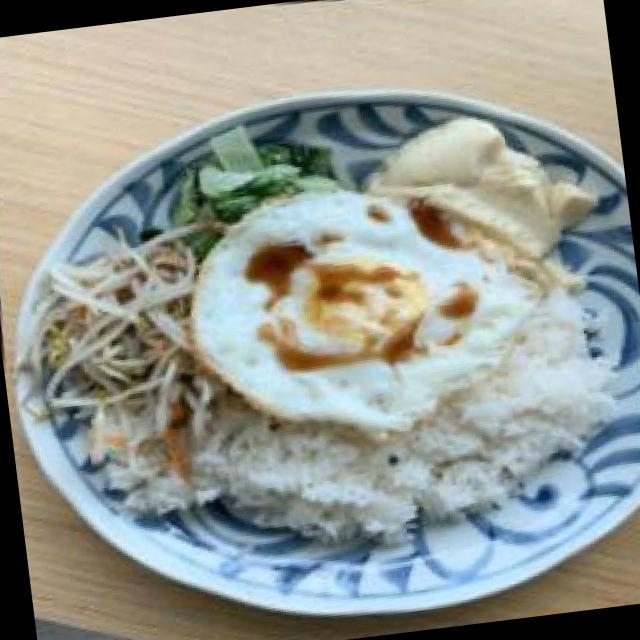fried_eggs: (202, 184, 511, 432)
mung_bean_sprouts: (40, 238, 209, 435)
rice: (210, 374, 566, 538)
